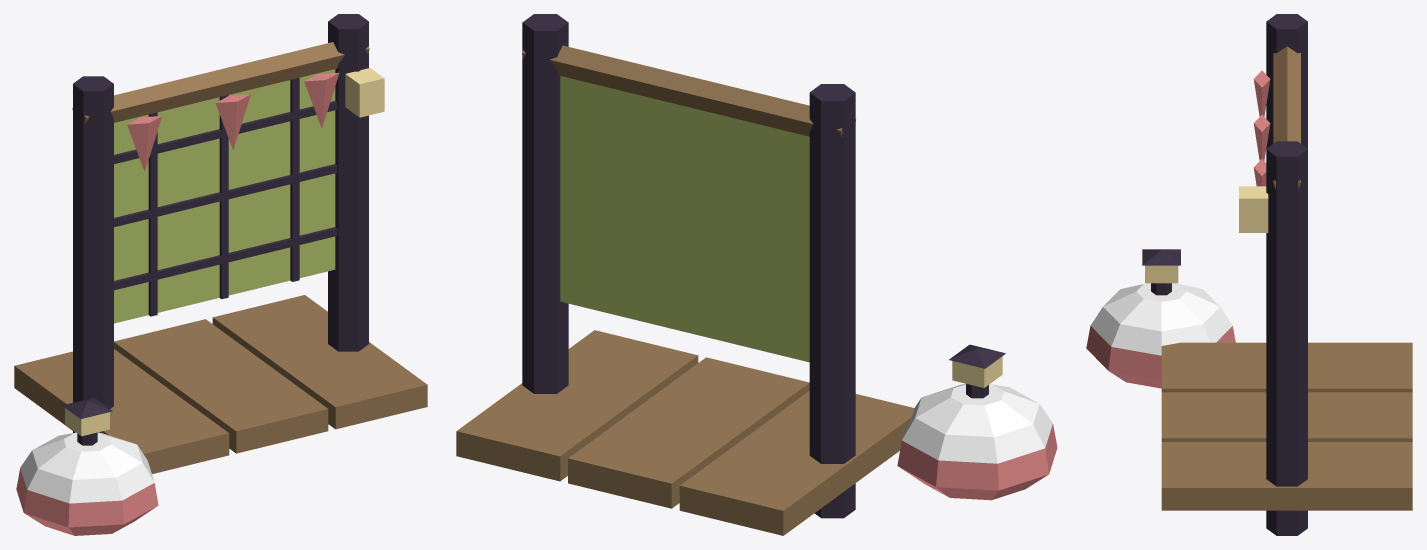
The model's file is ocean-landmark-s2c.glb.
The picture shows the model from 3 angles, left to right: view 1: azimuth 30°, elevation 25°; view 2: azimuth 150°, elevation 25°; view 3: azimuth 270°, elevation 25°; orthographic projection. The views are drawn at different scales.
Visible parts, largest first — view 1: ocean-landmark-s2c; view 2: ocean-landmark-s2c; view 3: ocean-landmark-s2c.
Part boxes in pixels (bbox=[...]): ocean-landmark-s2c: bbox=[14, 14, 427, 535]; ocean-landmark-s2c: bbox=[456, 14, 1057, 535]; ocean-landmark-s2c: bbox=[1086, 14, 1412, 535].
Bounding box in the file's own units: 1.14 × 1 × 0.78.
